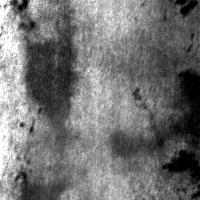patches: (22, 87, 160, 200), (85, 0, 191, 89), (21, 23, 75, 146), (105, 87, 166, 155), (164, 65, 200, 149), (82, 0, 148, 38), (16, 163, 71, 200), (160, 150, 200, 184), (171, 1, 196, 21)
